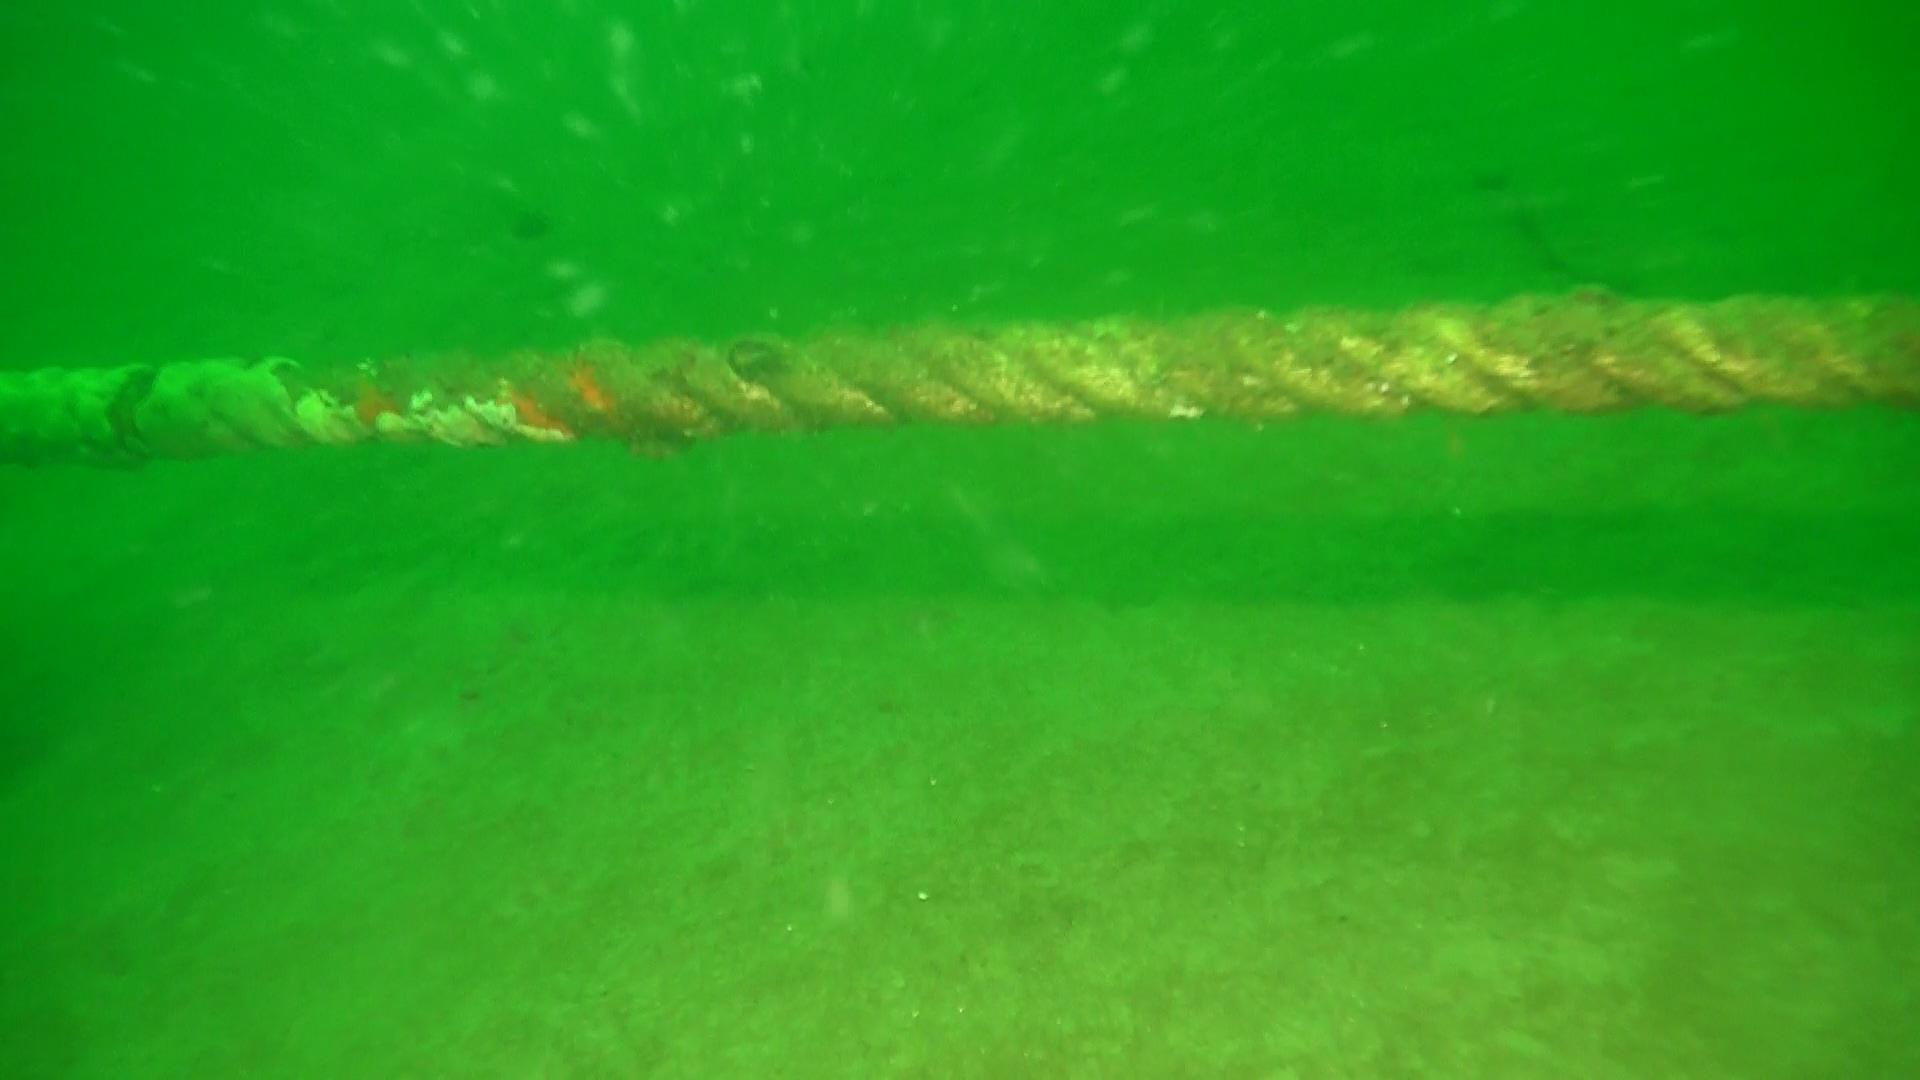rope: (0, 295, 1920, 459)
